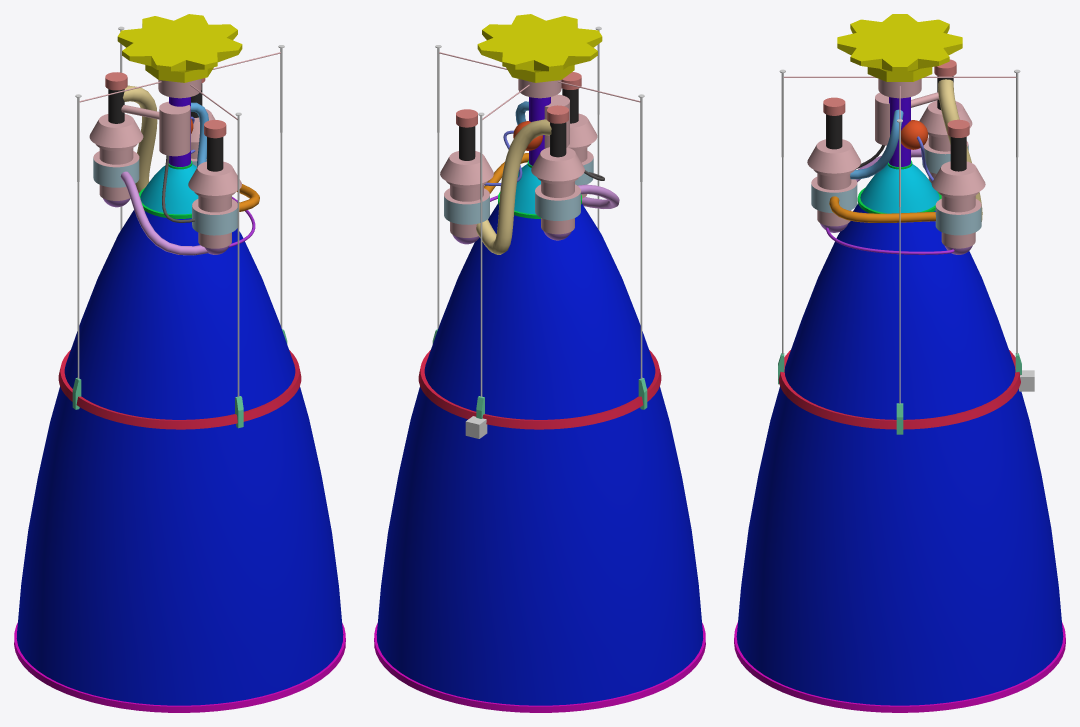
3 renders of one model, left to right at view 1: azimuth 30°, elevation 25°; view 2: azimuth 150°, elevation 25°; view 3: azimuth 270°, elevation 25°, orthographic.
Visible parts, largest first — view 1: Nozzle, EngineBase, Piston3B, Piston1B, Piston2B; view 2: Nozzle, EngineBase, Piston4B, Piston1B, Piston2B; view 3: Nozzle, EngineBase.
Part boxes in pixels (x1=…): Nozzle: x1=14, y1=160, x2=345, y2=712; EngineBase: x1=79, y1=14, x2=280, y2=255; Piston3B: x1=237, y1=200, x2=239, y2=397; Piston1B: x1=77, y1=182, x2=79, y2=379; Piston2B: x1=280, y1=132, x2=282, y2=329; Nozzle: x1=374, y1=160, x2=705, y2=712; EngineBase: x1=439, y1=14, x2=640, y2=254; Piston4B: x1=480, y1=200, x2=482, y2=397; Piston1B: x1=640, y1=182, x2=642, y2=379; Piston2B: x1=437, y1=132, x2=439, y2=329; Nozzle: x1=734, y1=160, x2=1065, y2=712; EngineBase: x1=783, y1=14, x2=1016, y2=254.
Bounding box in the file's own units: 2.09 × 4.19 × 2.09.
